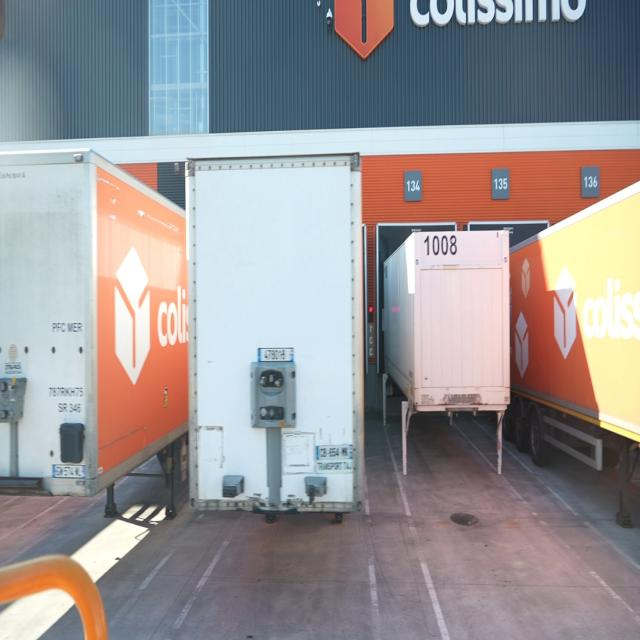Code: (421, 227, 460, 261)
